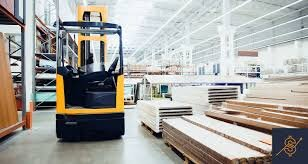combustible: (126, 65, 307, 161)
